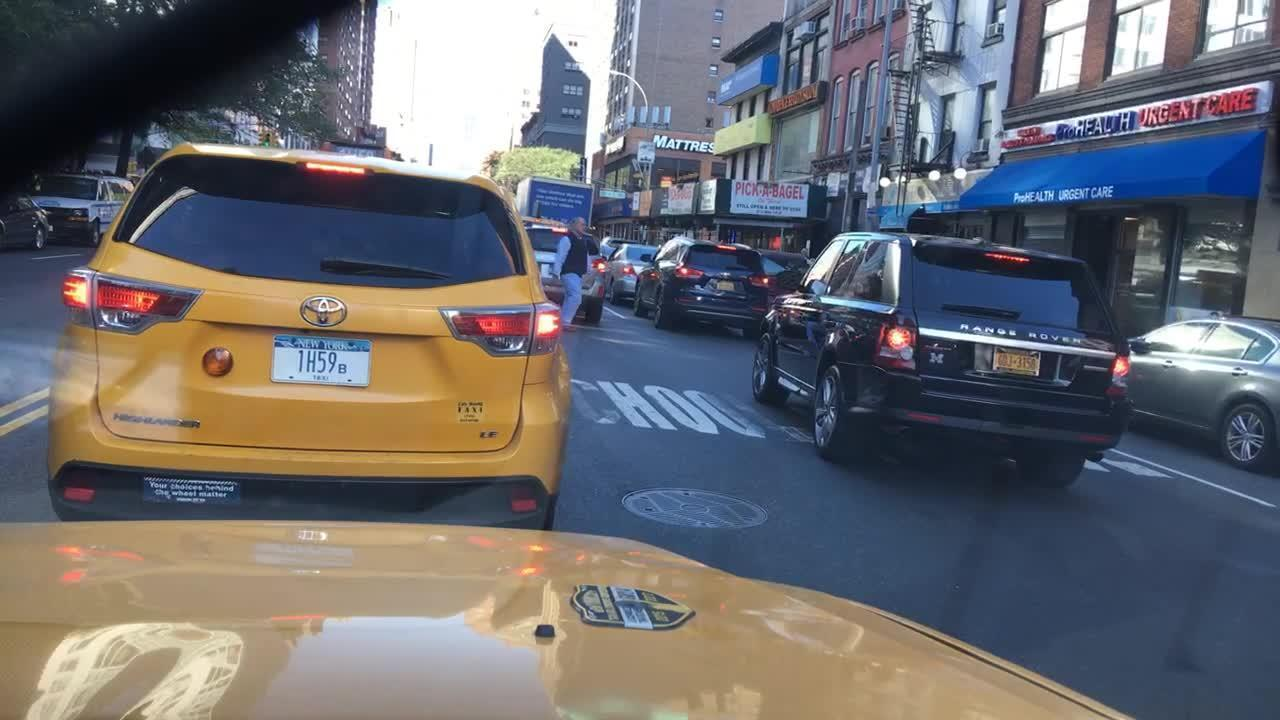Toyota: (296, 290, 350, 340)
range rover: (955, 317, 1085, 346)
